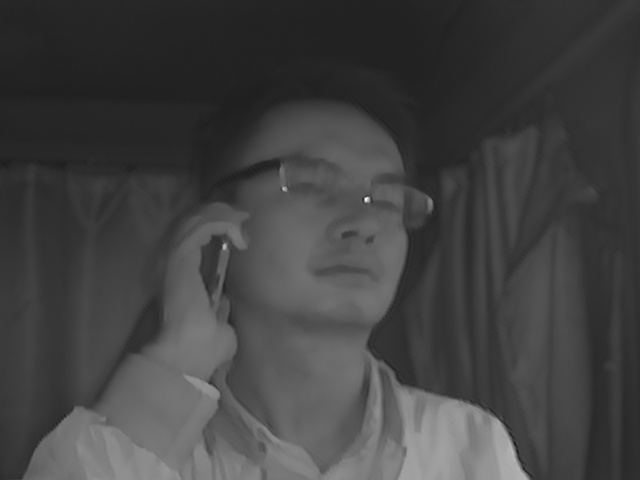hand: (155, 204, 250, 364)
